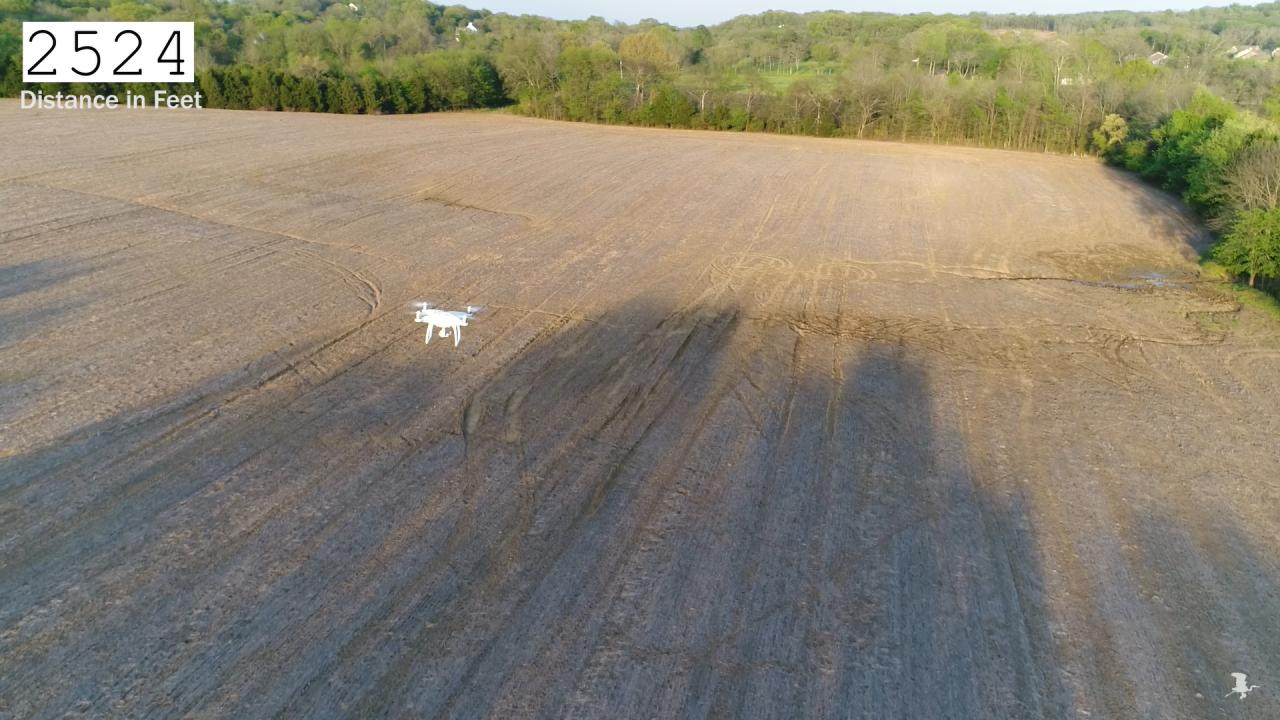Drone: (403, 292, 489, 354)
